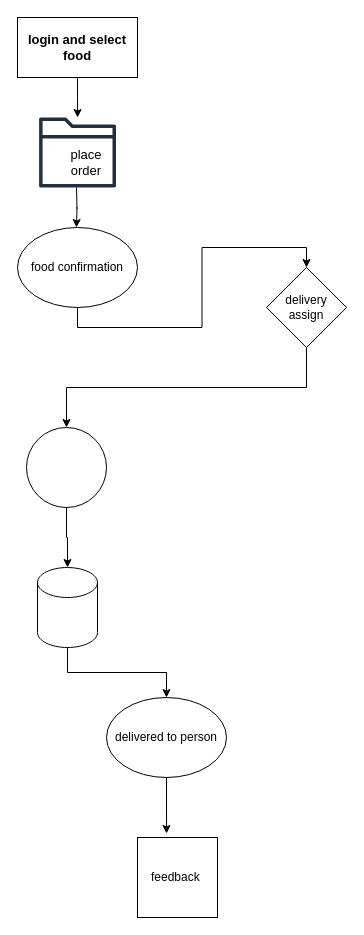
This 364x935 diagram has some shape labels left out. The shapes that lost their labels are listed below. From the top down, each one's box as (x1, y1, x2, y2) in pixels, then its label:
(26, 426, 106, 508): pick-up food
(36, 566, 98, 648): Tracking address
